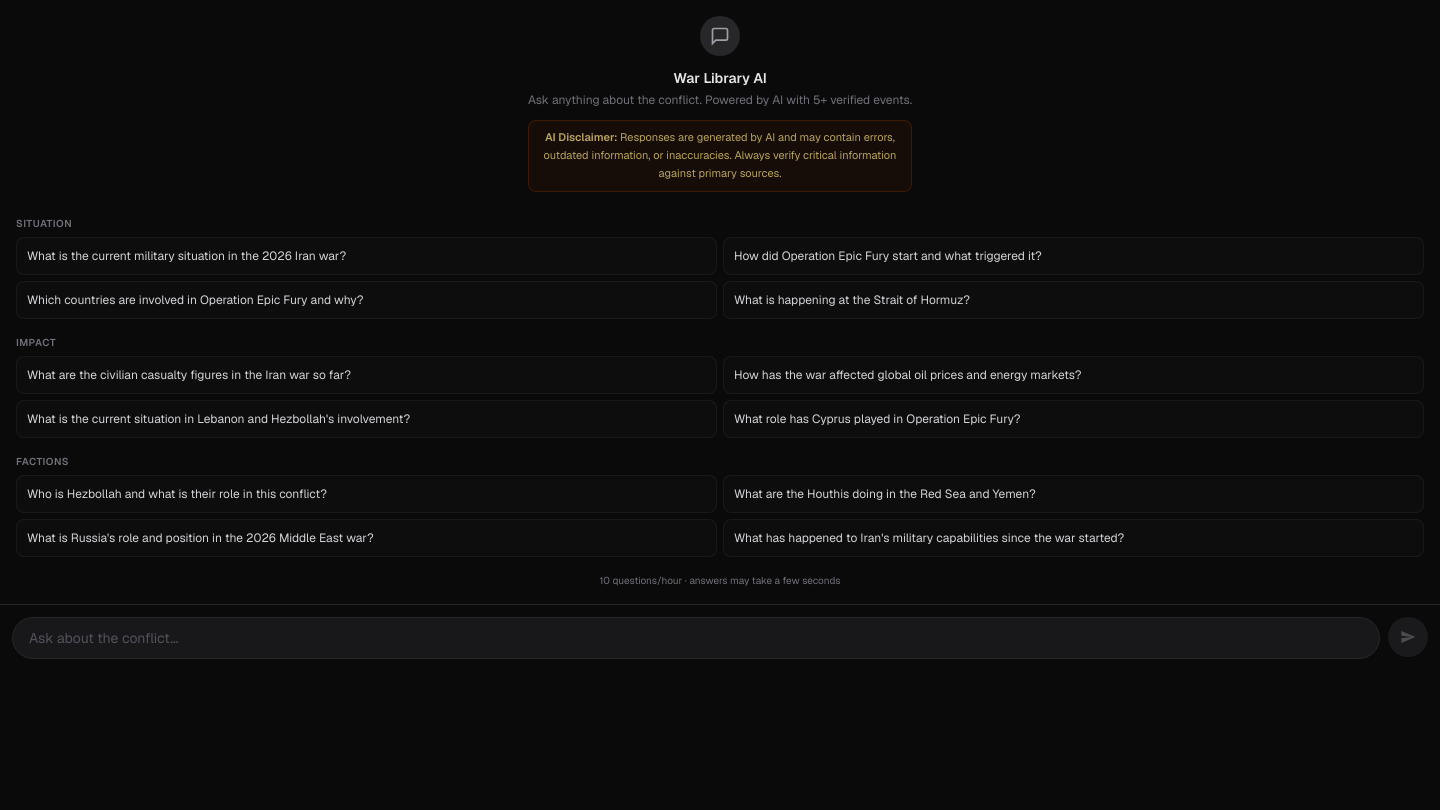
AskPanel › shows user message bubble after submitting a question
This screenshot has width=1440, height=810.
Type "What is happening?" into the field with placeholder "Ask about the conflict..." at (696, 638), box [12,617,1380,659]
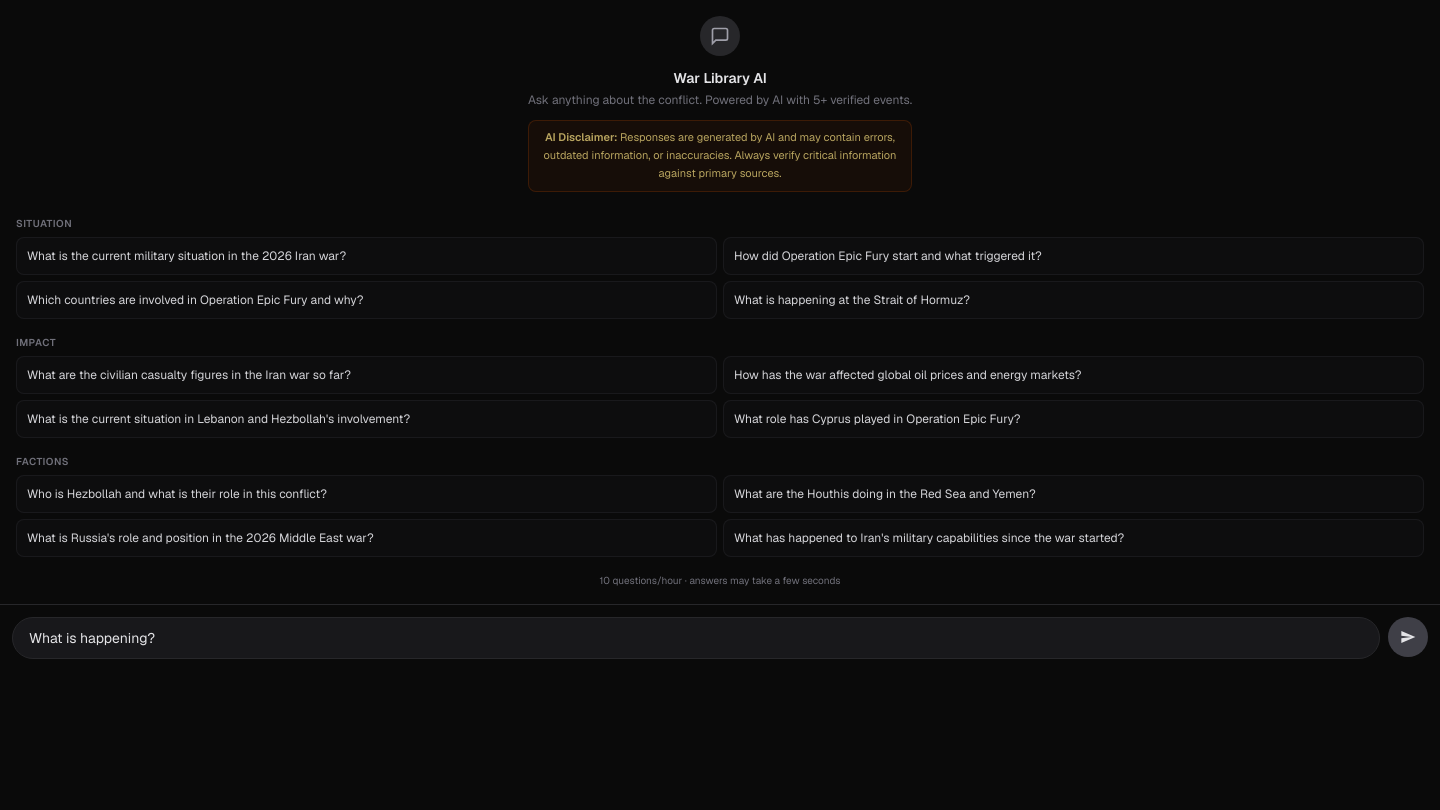
Click the button named "Send" at (1408, 637), box [1388,617,1428,657]
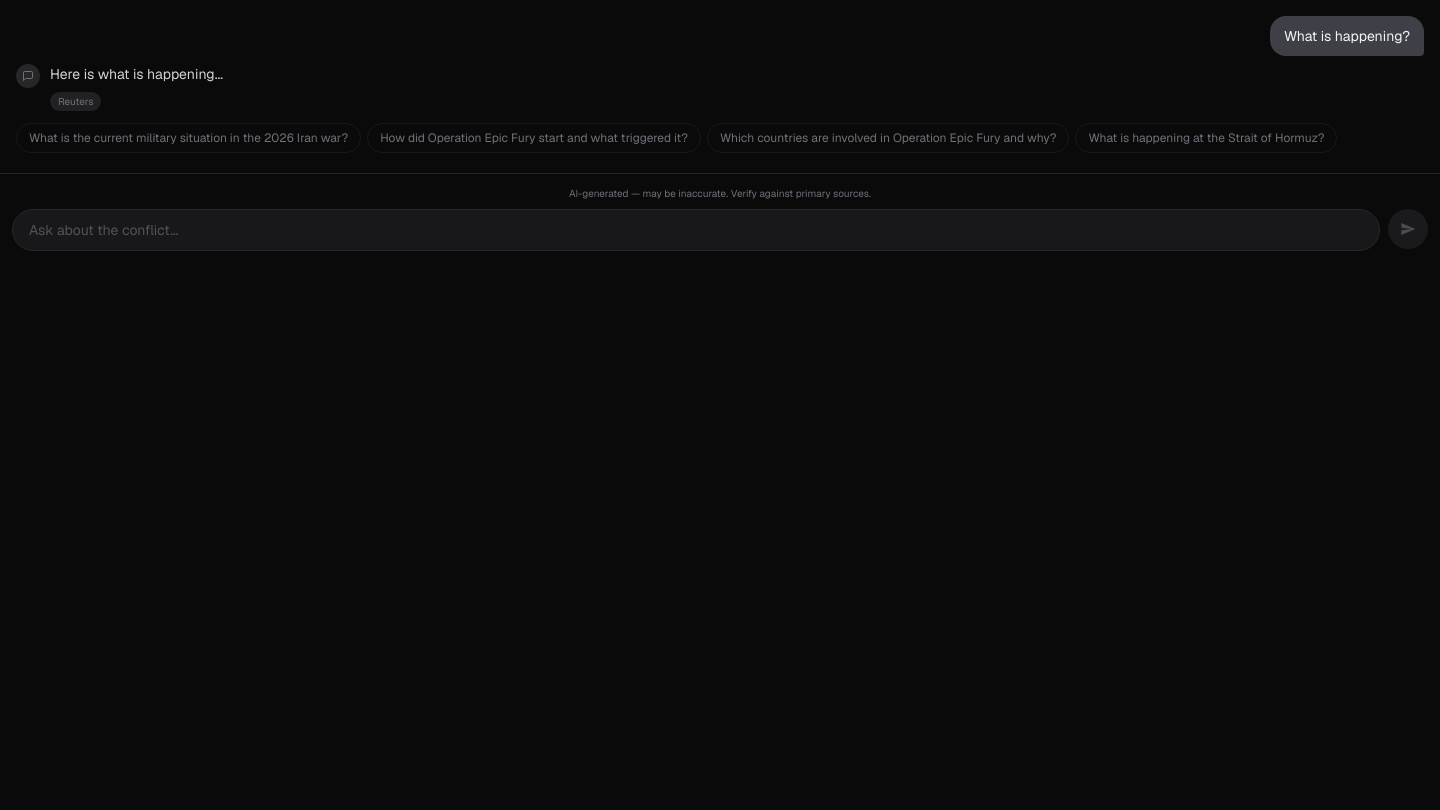
Now the text "What is happening?" is shown, box [1270,16,1424,56]
